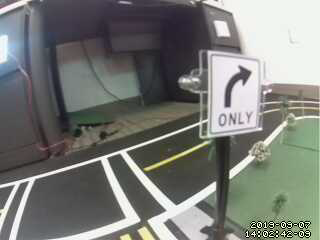Right_only_sign: (202, 52, 264, 130)
